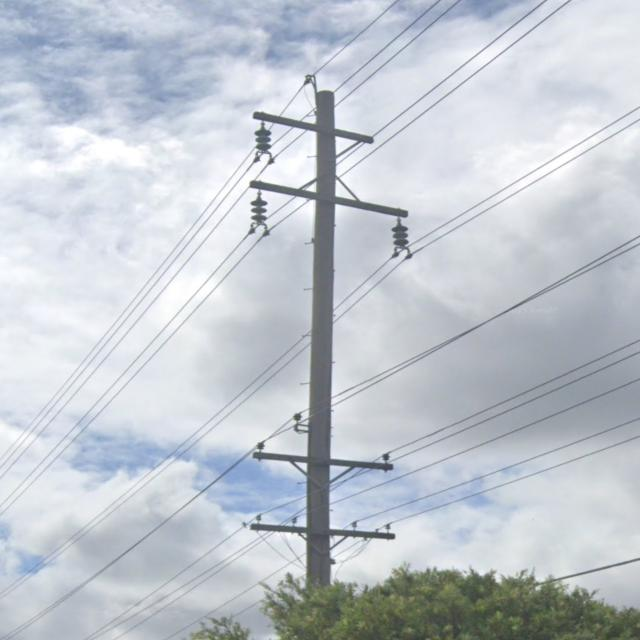HV-transmission: (248, 75, 416, 258)
crossarm: (248, 180, 409, 218), (255, 110, 374, 142), (253, 452, 392, 470), (252, 524, 394, 540)
timber-pole: (306, 91, 335, 589)
